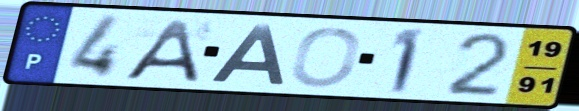1: (389, 26, 428, 95)
2: (443, 31, 513, 98)
4: (63, 12, 124, 82)
A: (119, 18, 202, 84), (205, 21, 288, 86)
O: (287, 25, 364, 89)
